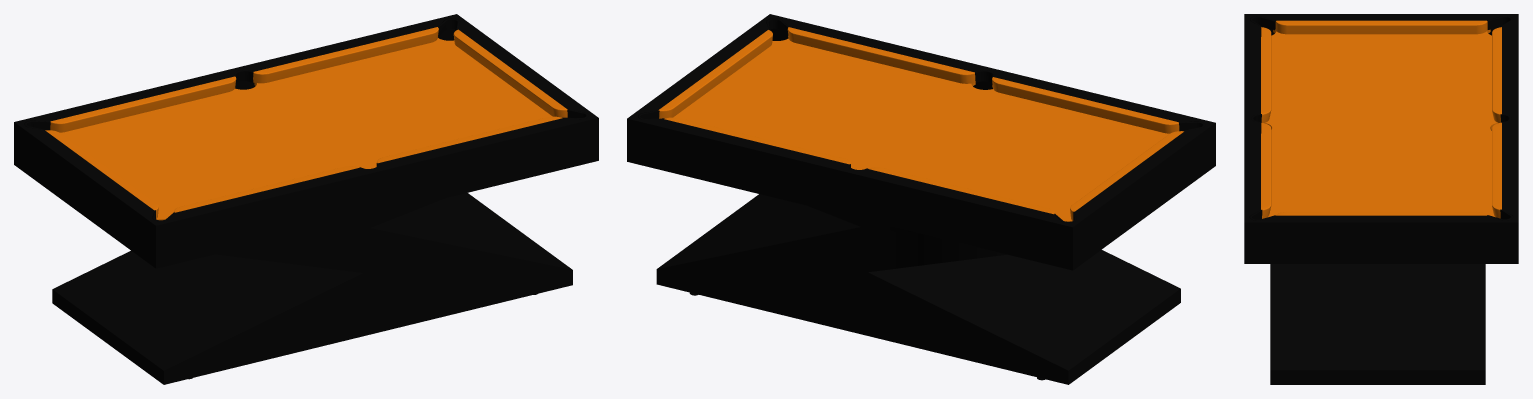
Rendered from MesaZurichGLB.glb.
The picture shows the model from 3 angles, left to right: view 1: azimuth 30°, elevation 25°; view 2: azimuth 150°, elevation 25°; view 3: azimuth 270°, elevation 25°; orthographic projection. The views are drawn at different scales.
Visible parts, largest first — view 1: PesZ, Pedra, Lateral, Tabela1, Tabela3, Tabela7, Tabela4, Tabela5, Tabela6; view 2: PesZ, Pedra, Lateral, Tabela6, Tabela5, Tabela7, Tabela4, Tabela1, Tabela3; view 3: Pedra, PesZ, Lateral, Tabela4, Tabela7, Tabela5, Tabela6, Tabela1, Tabela3, Lateral7, Lateral6.
Part boxes in pixels (<box>): PesZ: <box>52,193,572,384</box>; Pedra: <box>60,38,552,220</box>; Lateral: <box>14,14,598,268</box>; Tabela1: <box>253,27,438,83</box>; Tabela3: <box>50,76,236,132</box>; Tabela7: <box>453,29,567,117</box>; Tabela4: <box>45,130,158,219</box>; Tabela5: <box>174,166,359,212</box>; Tabela6: <box>377,116,562,163</box>; PesZ: <box>656,194,1180,384</box>; Pedra: <box>673,38,1169,221</box>; Lateral: <box>627,14,1215,270</box>; Tabela6: <box>787,27,975,83</box>; Tabela5: <box>992,77,1179,133</box>; Tabela7: <box>658,30,772,118</box>; Tabela4: <box>1070,131,1183,220</box>; Tabela1: <box>664,117,850,164</box>; Tabela3: <box>868,167,1054,214</box>; Pedra: <box>1261,29,1497,217</box>; PesZ: <box>1270,264,1485,384</box>; Lateral: <box>1244,14,1518,263</box>; Tabela4: <box>1275,20,1487,34</box>; Tabela7: <box>1276,211,1486,215</box>; Tabela5: <box>1261,27,1271,123</box>; Tabela6: <box>1261,122,1271,218</box>; Tabela1: <box>1492,122,1501,218</box>; Tabela3: <box>1492,27,1501,122</box>; Lateral7: <box>1250,16,1275,35</box>; Lateral6: <box>1487,16,1513,29</box>.
Bounding box in the file's own units: 0.0216 × 0.00829 × 0.012.
